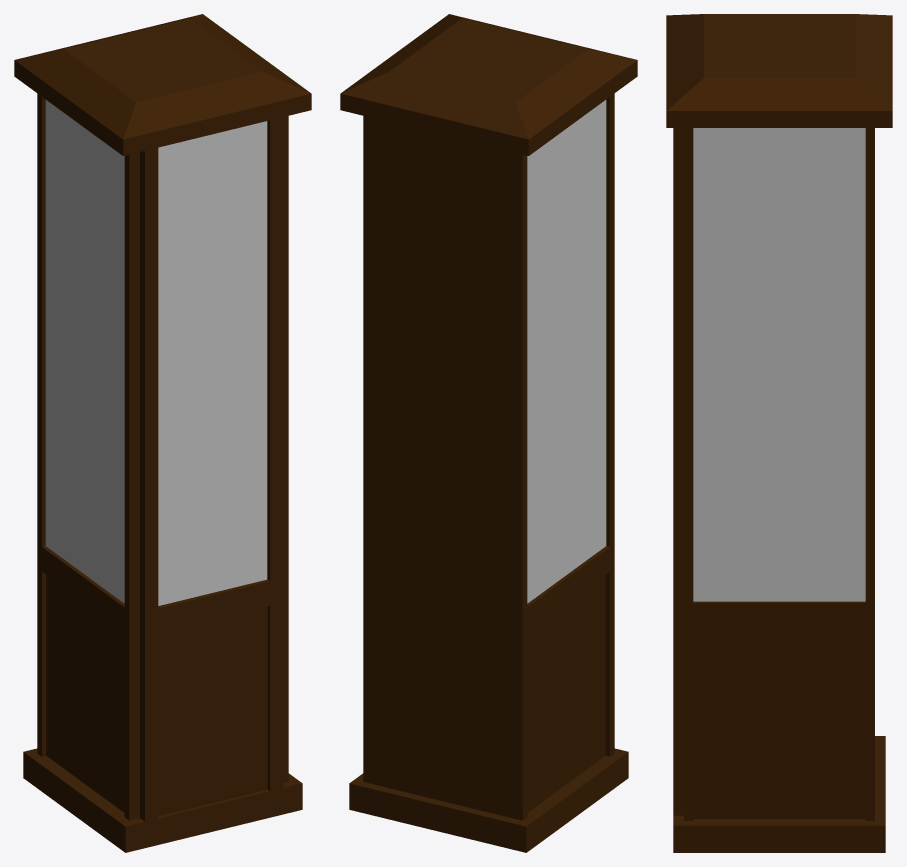
Rendered from Bandera.fbx.
3 views of the same model, side by side, from view 1: azimuth 30°, elevation 25°; view 2: azimuth 150°, elevation 25°; view 3: azimuth 270°, elevation 25° (orthographic). The views are drawn at different scales.
Visible parts, largest first — view 1: Vitrina; view 2: Vitrina; view 3: Vitrina.
Boxes of the visible parts, <box> form: Vitrina: <box>14,14,311,852</box>; Vitrina: <box>340,14,637,852</box>; Vitrina: <box>666,14,892,852</box>.
Bounding box in the file's own units: 65.29 × 243 × 65.29.
